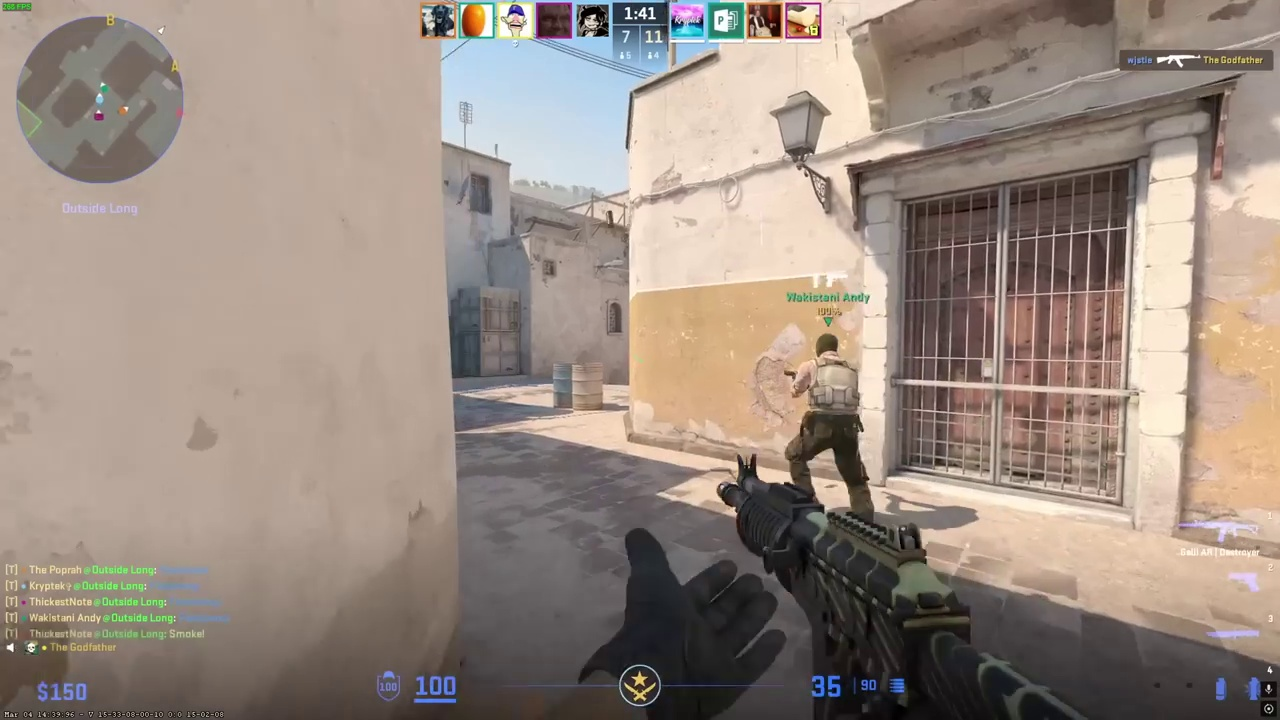Terrorist: (786, 333, 874, 522)
